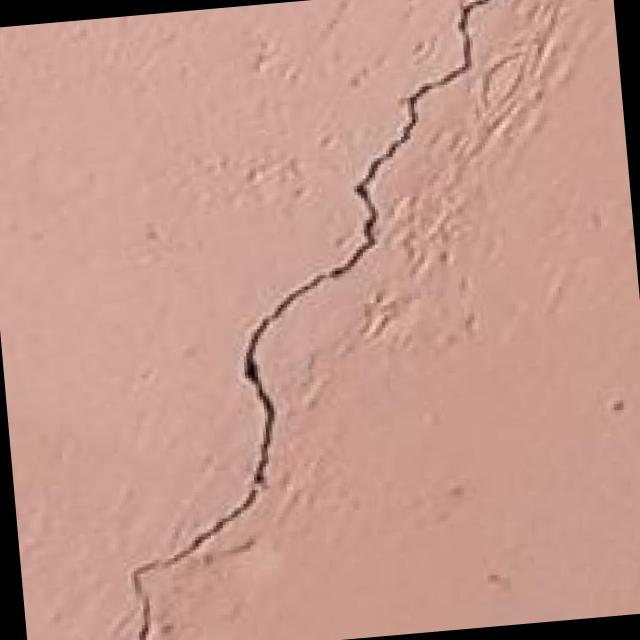crack: (53, 0, 577, 640)
